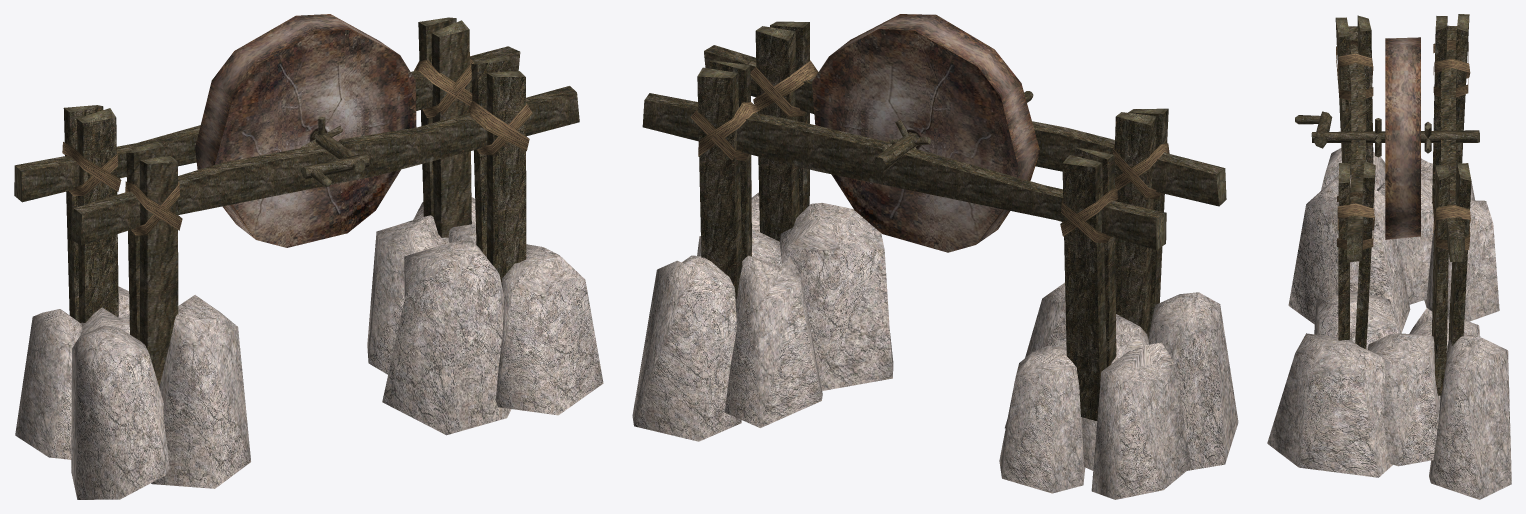
Rendered from thm_dant_cooking_stone_l1.fbx.
The picture shows the model from 3 angles, left to right: view 1: azimuth 30°, elevation 25°; view 2: azimuth 150°, elevation 25°; view 3: azimuth 270°, elevation 25°; orthographic projection. The views are drawn at different scales.
Visible parts, largest first — view 1: mesh_node; view 2: mesh_node; view 3: mesh_node.
Part boxes in pixels (left/top/right/bottom): mesh_node: left=14, top=14, right=603, bottom=499; mesh_node: left=632, top=14, right=1238, bottom=499; mesh_node: left=1267, top=14, right=1511, bottom=499.
Bounding box in the file's own units: 2.53 × 1.96 × 1.21.
